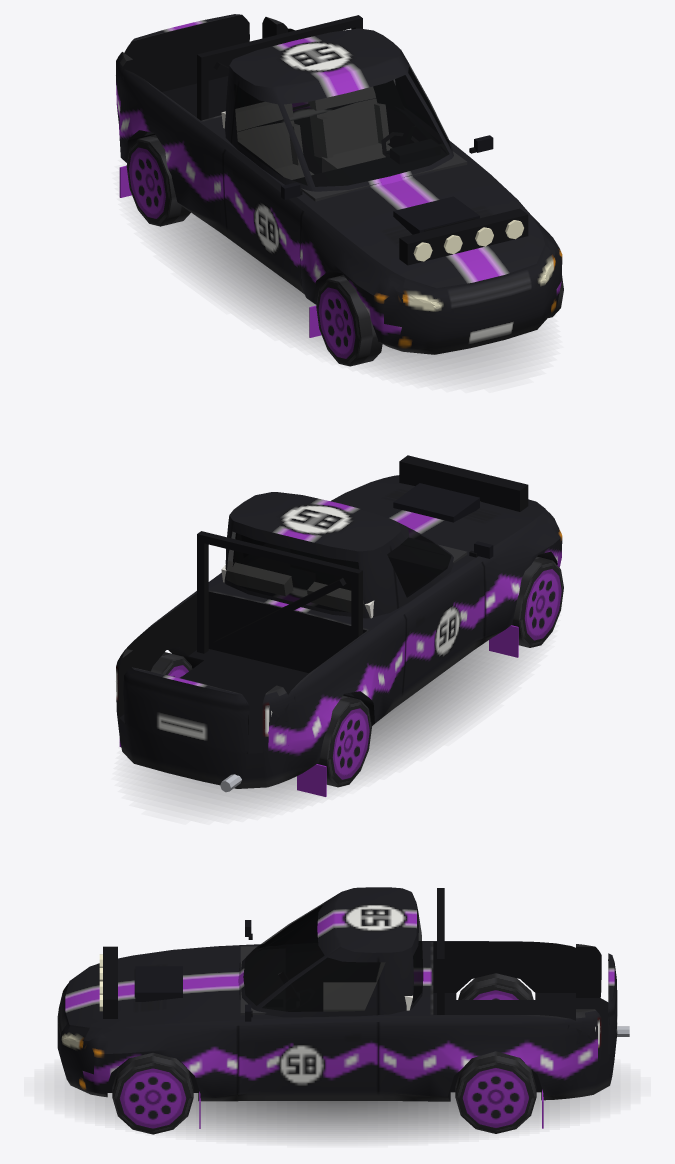
Rendered from obsidiana.glb.
The picture shows the model from 3 angles, top to bottom: view 1: azimuth 30°, elevation 25°; view 2: azimuth 150°, elevation 25°; view 3: azimuth 270°, elevation 25°; orthographic projection. The views are drawn at different scales.
Visible parts, largest first — view 1: Carroceria, Capo_malha, Interior, Sombra, Porta_D_malha, Tampa_malha, Roda_DD, Roda_TD, Porta_E_malha; view 2: Carroceria, Sombra, Capo_malha, Porta_D_malha, Tampa_malha, Interior, Roda_TD, Roda_DD, Roda_TE; view 3: Carroceria, Porta_E_malha, Sombra, Capo_malha, Interior, Roda_TE, Roda_DE, Roda_TD, Porta_D_malha, Tampa_malha.
Boxes of the visible parts, x1,y1,x2,y2 form: Carroceria: (116, 15, 562, 354); Capo_malha: (322, 172, 555, 293); Interior: (221, 80, 467, 201); Sombra: (150, 213, 536, 377); Porta_D_malha: (223, 76, 312, 286); Tampa_malha: (124, 14, 249, 91); Roda_DD: (316, 275, 382, 366); Roda_TD: (126, 134, 190, 226); Porta_E_malha: (395, 50, 493, 156); Carroceria: (116, 481, 562, 796); Sombra: (141, 640, 527, 808); Capo_malha: (336, 455, 554, 547); Porta_D_malha: (389, 522, 493, 693); Tampa_malha: (123, 667, 249, 754); Interior: (221, 534, 467, 618); Roda_TD: (317, 695, 371, 787); Roda_DD: (511, 556, 563, 647); Roda_TE: (151, 652, 192, 677); Carroceria: (57, 887, 629, 1128); Porta_E_malha: (238, 946, 378, 1094); Sombra: (64, 1077, 610, 1139); Capo_malha: (70, 946, 222, 1040); Interior: (240, 944, 412, 1015); Roda_TE: (455, 1051, 536, 1133); Roda_DE: (112, 1053, 193, 1134); Roda_TD: (458, 973, 533, 999); Porta_D_malha: (245, 905, 322, 947); Tampa_malha: (608, 953, 617, 1056).
Size of the model in its own units: 2.38 by 1.52 by 5.17.
Materials: 14 (5 with a texture image).
